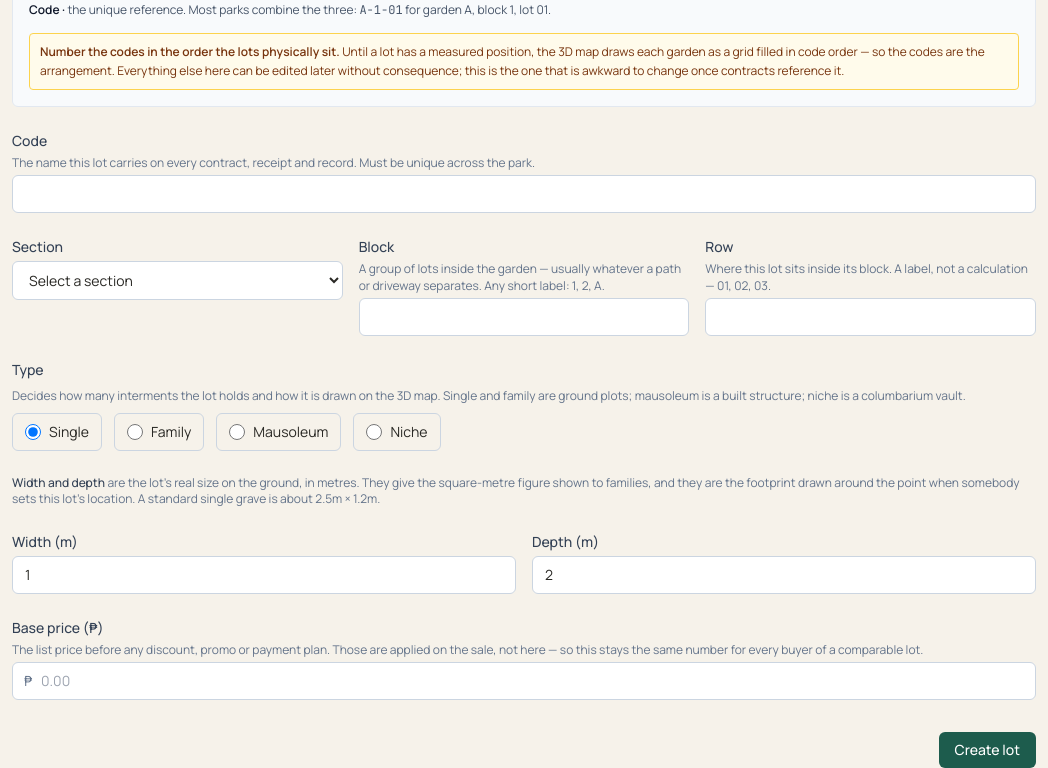
Test: LotForm — create mode › requires every field before submit
(page scrolled)
Click the button "Create lot": click(987, 750) top-left (939, 732), bottom-right (1036, 767)
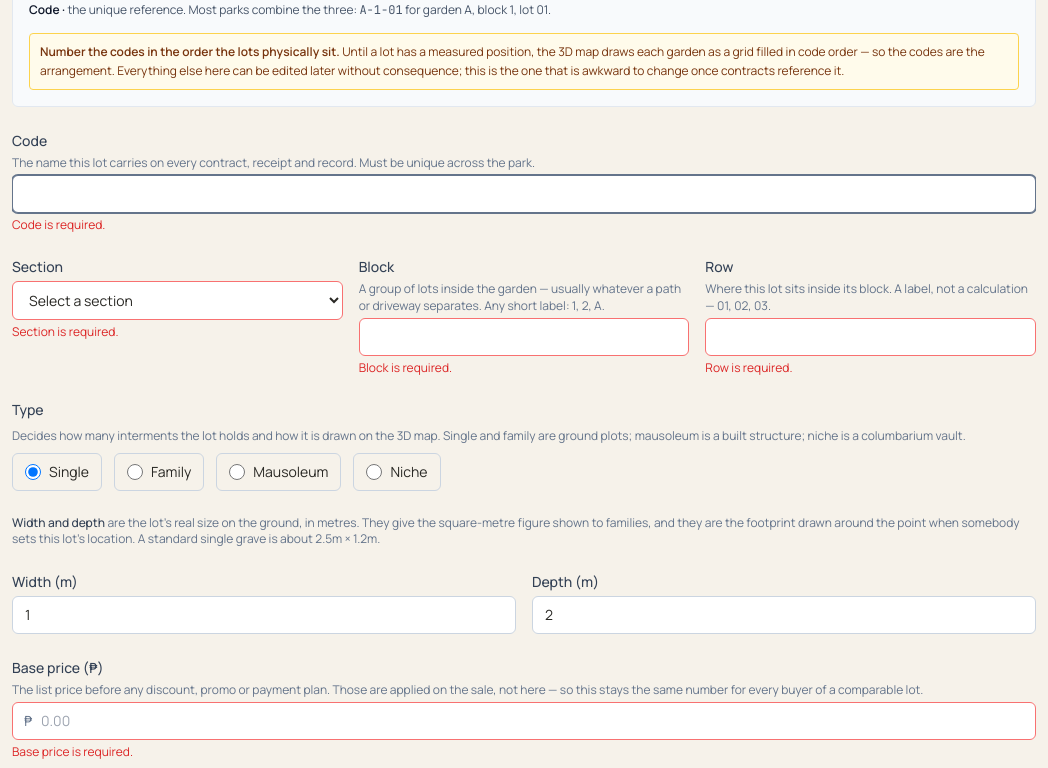
Check: the text "Code is required." is shown, box top-left (12, 216), bottom-right (105, 233)
